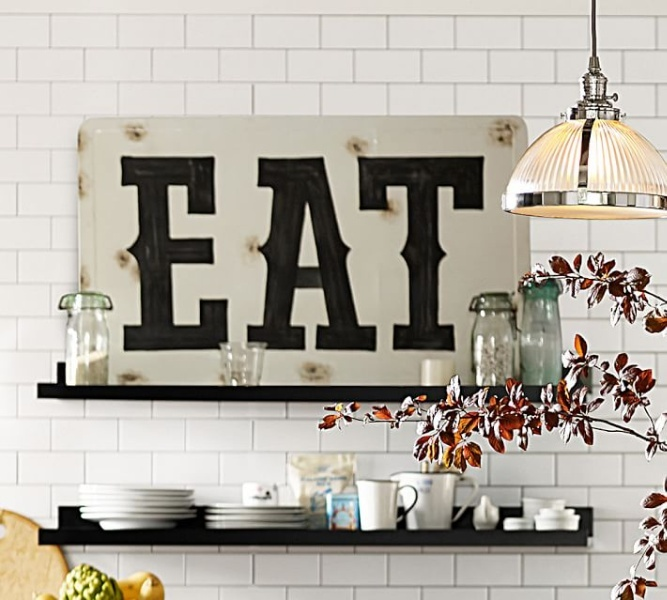text: (129, 156, 144, 353), (145, 156, 160, 353), (161, 156, 176, 353), (177, 156, 192, 353), (193, 156, 208, 353), (209, 156, 224, 353), (225, 156, 240, 353), (241, 156, 256, 353), (257, 156, 272, 353), (273, 156, 288, 353), (289, 156, 304, 353), (305, 156, 320, 353), (321, 156, 336, 353), (337, 156, 352, 353), (353, 156, 368, 353), (369, 156, 384, 353), (385, 156, 400, 353), (401, 156, 416, 353), (417, 156, 432, 353), (433, 156, 448, 353), (449, 156, 464, 353), (465, 156, 480, 353), (119, 156, 128, 353), (481, 156, 486, 353)
